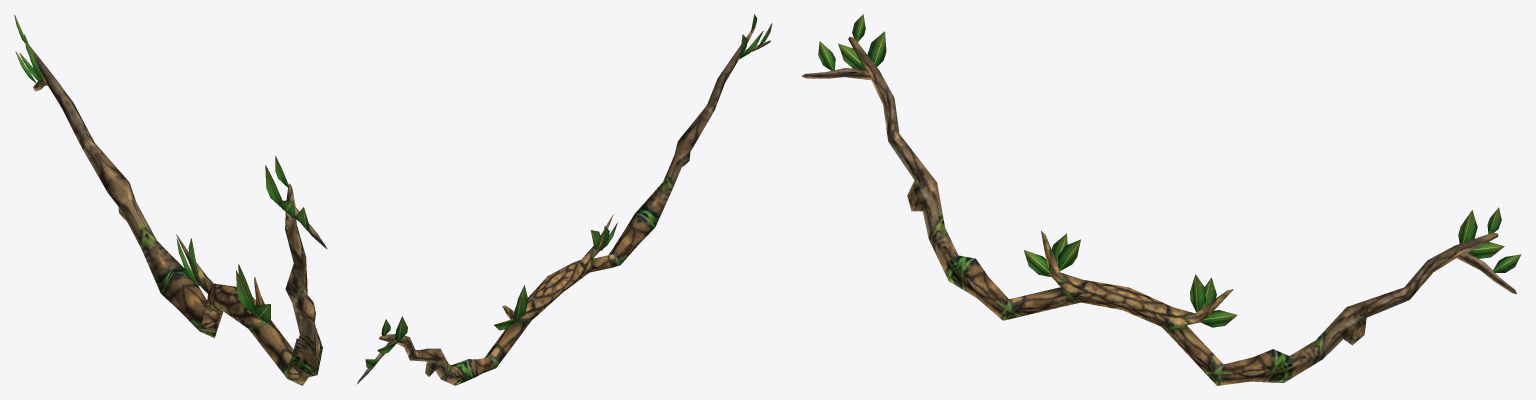
The model's file is Hunter-lefthandweapon08.FBX.
3 views of the same model, side by side, from view 1: azimuth 30°, elevation 25°; view 2: azimuth 150°, elevation 25°; view 3: azimuth 270°, elevation 25° (orthographic). The views are drawn at different scales.
Parts seen in each view (by area): view 1: Hunter-lefthandweapon08; view 2: Hunter-lefthandweapon08; view 3: Hunter-lefthandweapon08.
Boxes of the visible parts, x1,y1,x2,y2 form: Hunter-lefthandweapon08: (14, 14, 327, 385); Hunter-lefthandweapon08: (356, 14, 772, 385); Hunter-lefthandweapon08: (802, 14, 1521, 385).
Size of the model in its own units: 36.37 by 77.06 by 162.
